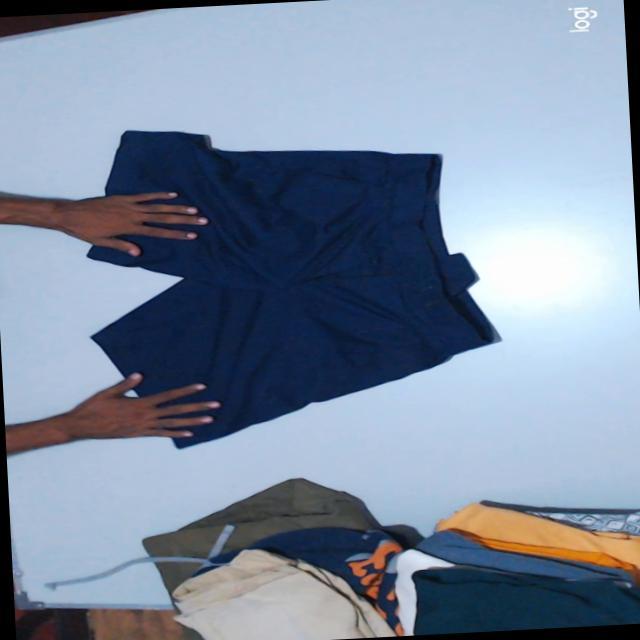new-garment: (88, 130, 494, 446)
